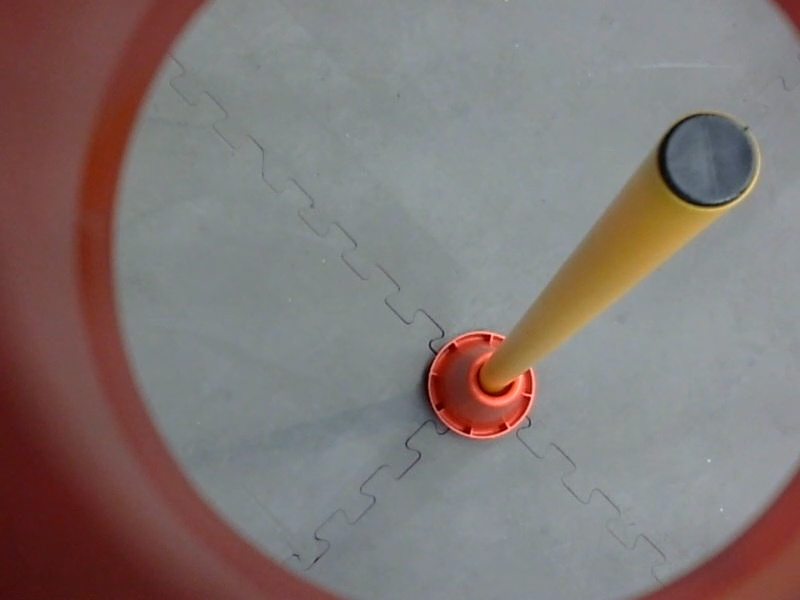tip: (651, 102, 767, 219)
